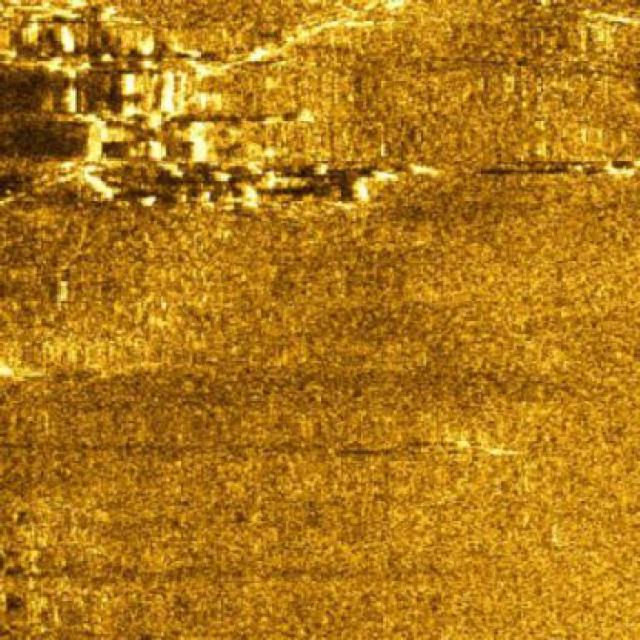bedrock group: (0, 0, 435, 212)
